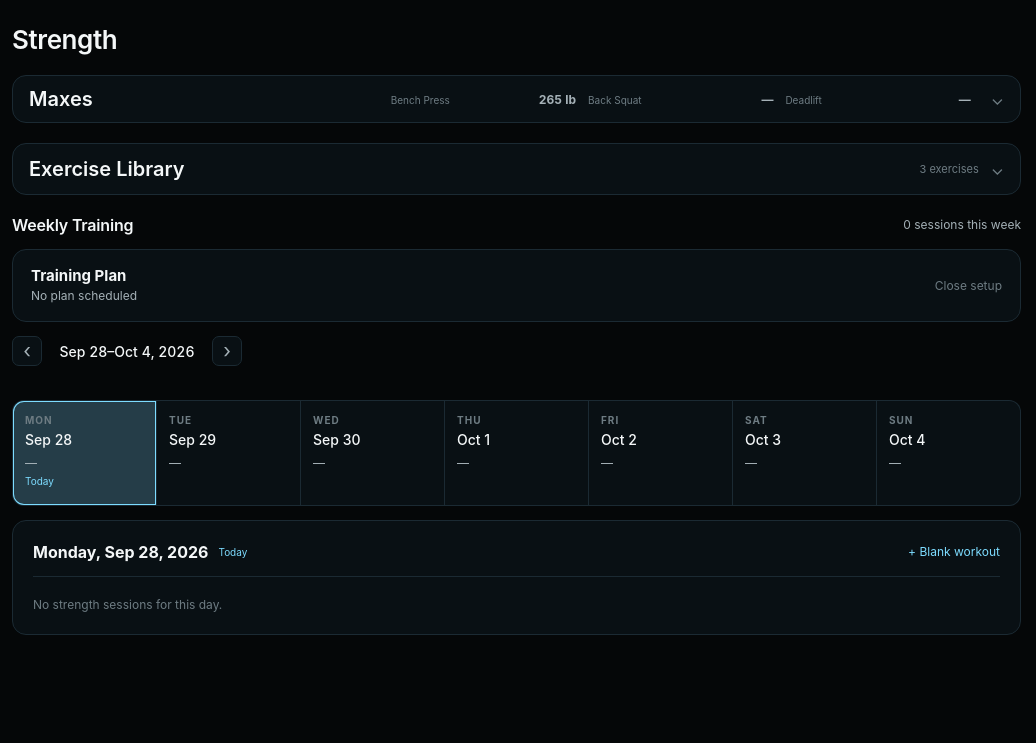
Test: StrengthPage › saves a valid max on blur
Click the button "Maxes". click: (61, 99)
box: [12,75,1021,123]
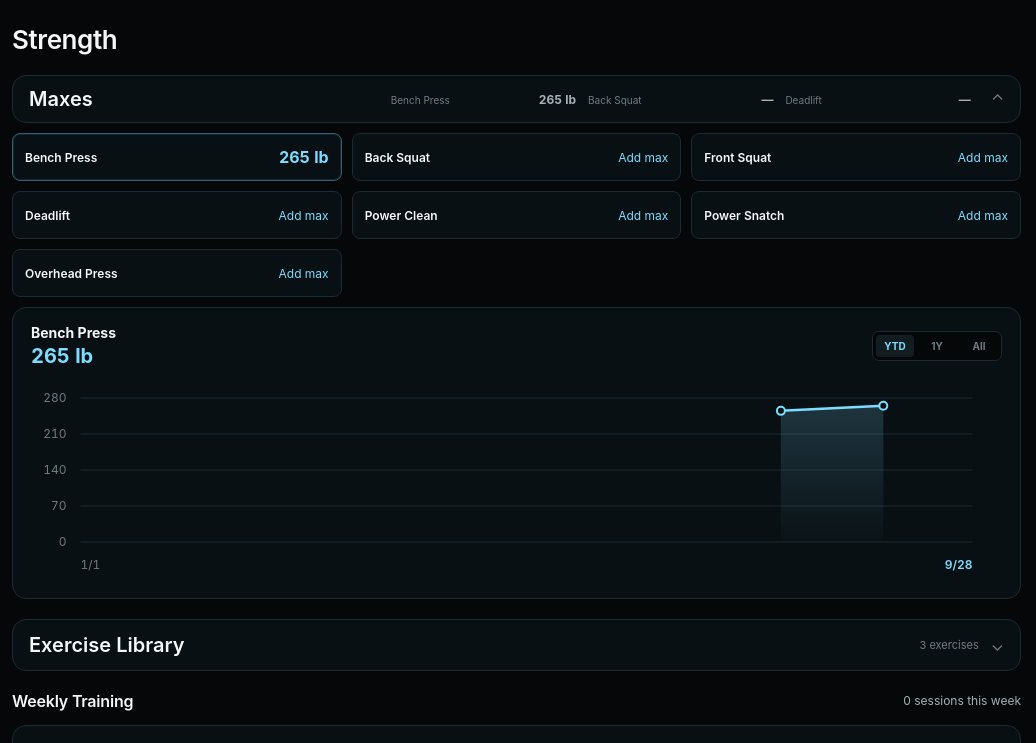
Click the button "265 lb". click: (304, 157)
box: [279,147,329,167]
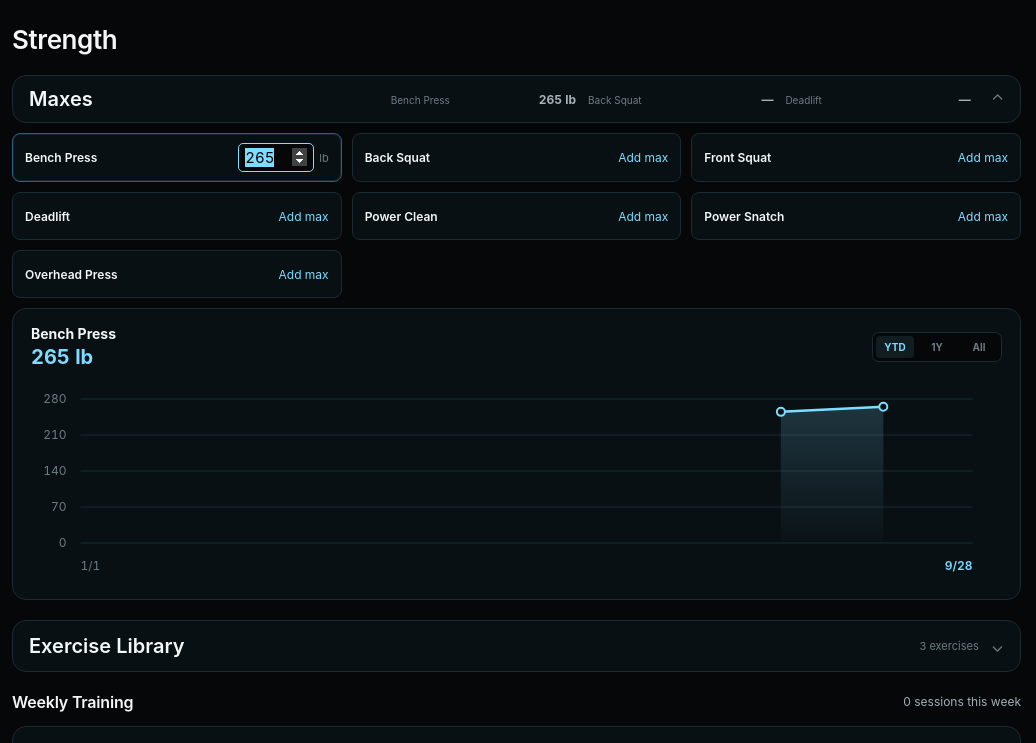
Replace the text in the number field named "Bench Press max" with "275". click: (276, 158)
box: [238,143,314,172]
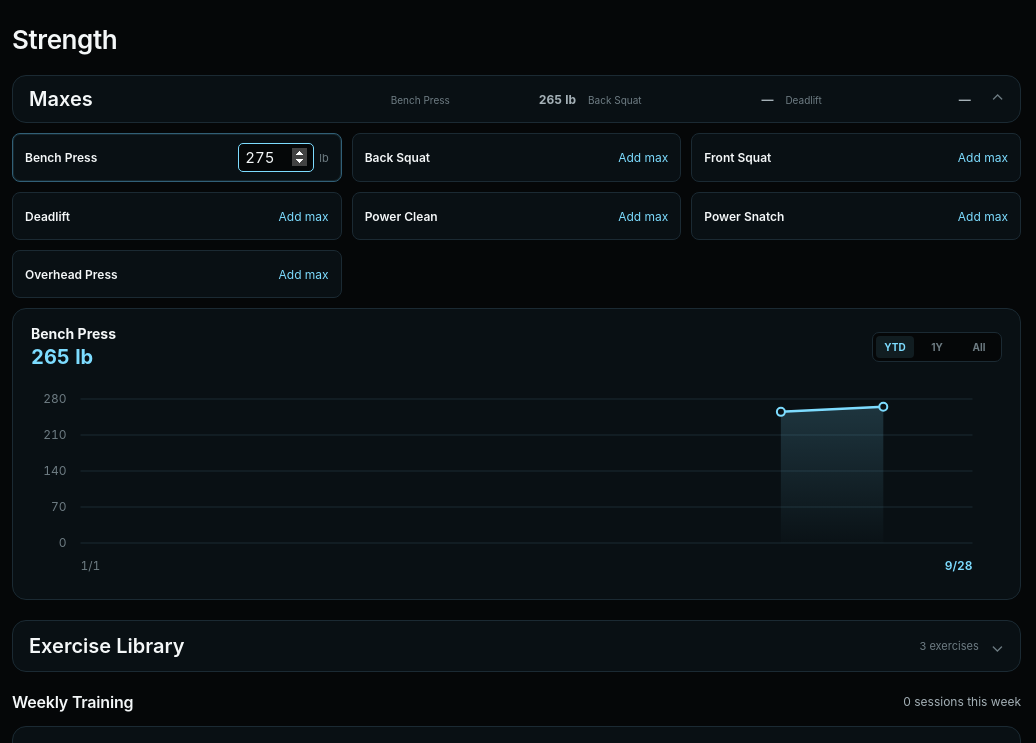
Leave the number field named "Bench Press max", box [238,143,314,172]
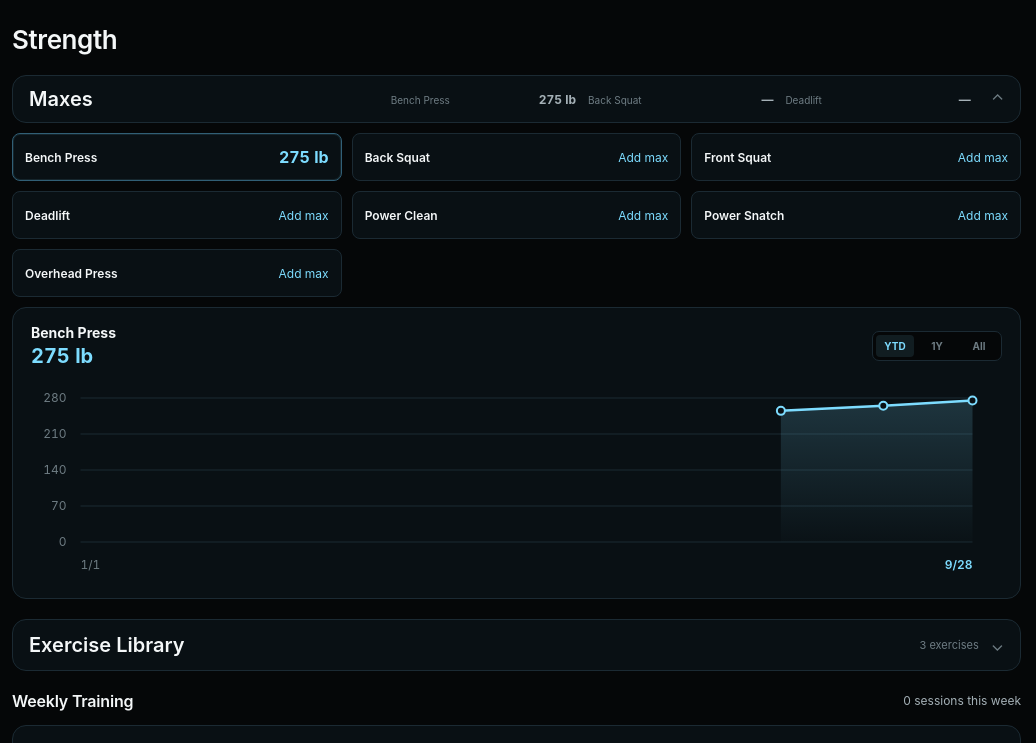
Result: the button "275 lb" is shown at [279,147,329,167]
